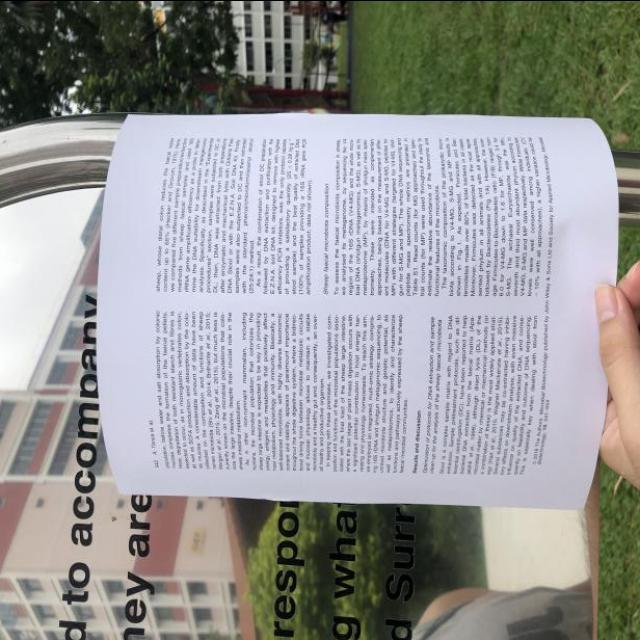kertas: (91, 102, 622, 510)
